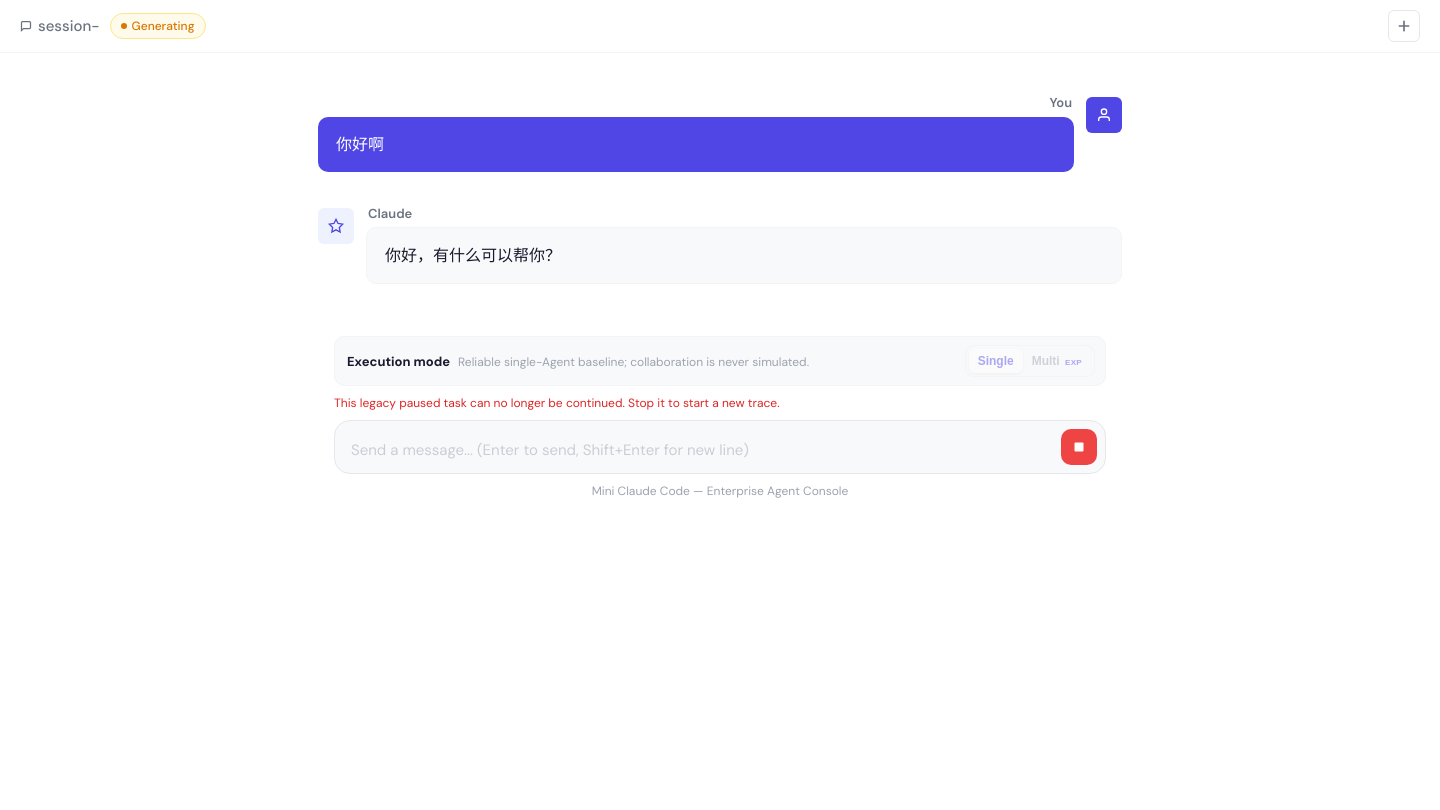
Test: ChatPanel session history restoration › restores a legacy paused checkpoint as Stop-only and terminally cancels it
Expected: the text box with placeholder "Send a message... (Enter to send, Shift+Enter for new line)" is disabled, [351,435,1053,465]
Click the button with test id "stop-task".
click(1079, 447)  # box [1061,429,1097,465]
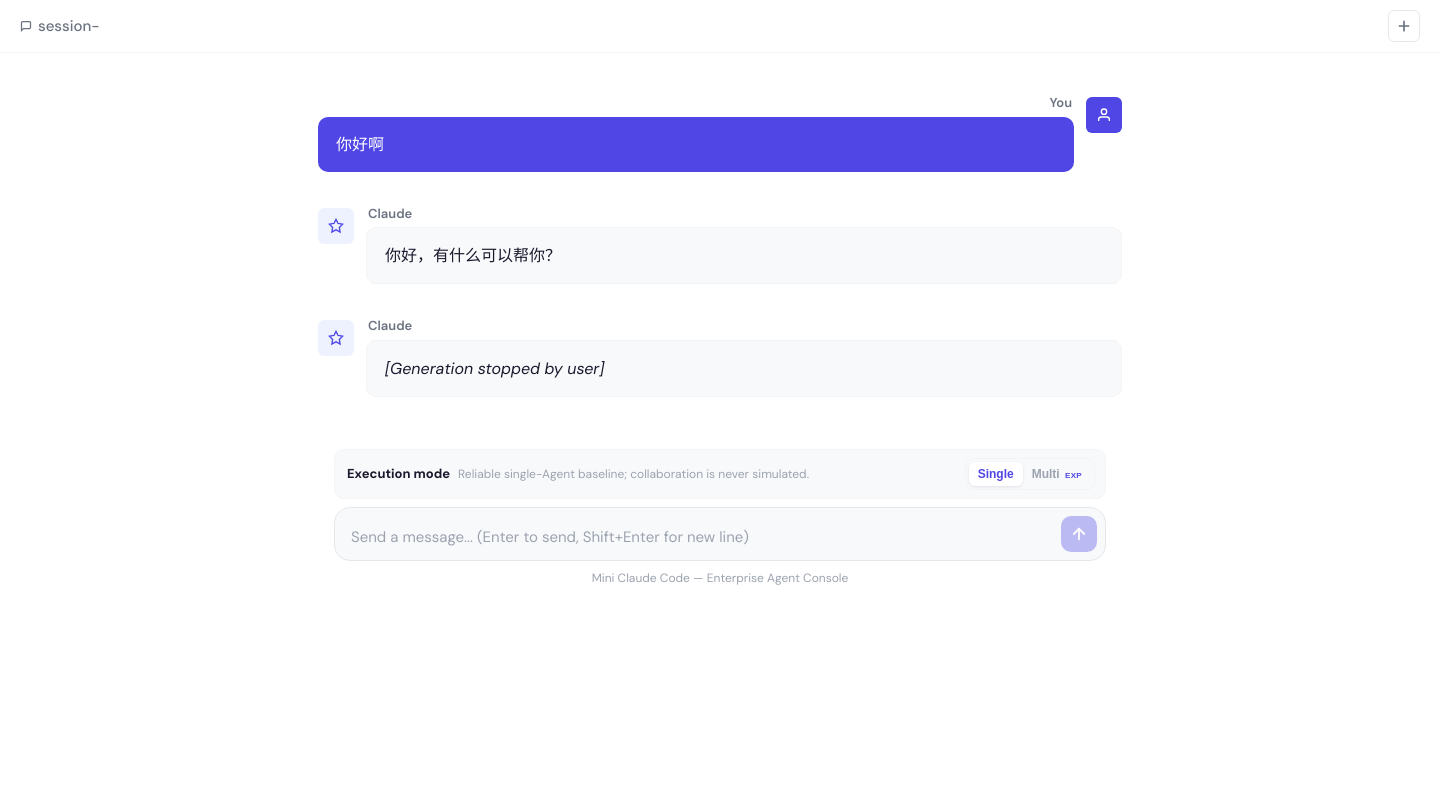
Now the text box with placeholder "Send a message... (Enter to send, Shift+Enter for new line)" is enabled, box [351,522,1053,552]
